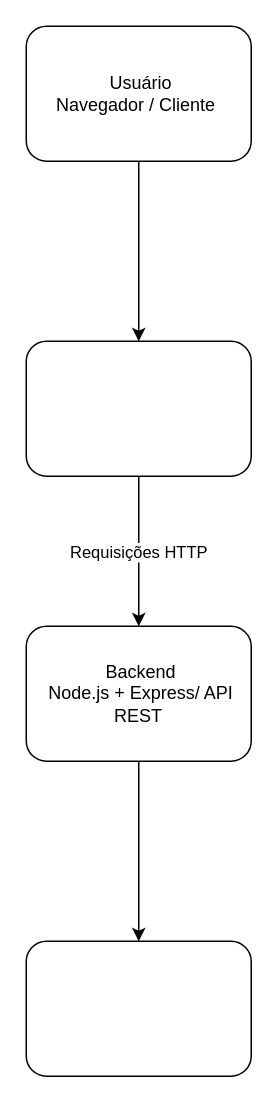
Some shapes in this 278 by 1103 pixel diagram are drawn without their labels. Here are the shapes that lost their labels. From the top down, the box of each, then its label:
(25, 340, 251, 476): Frontend React / Interface Web
(25, 940, 251, 1076): PostgreSQL DB Banco de Dados
